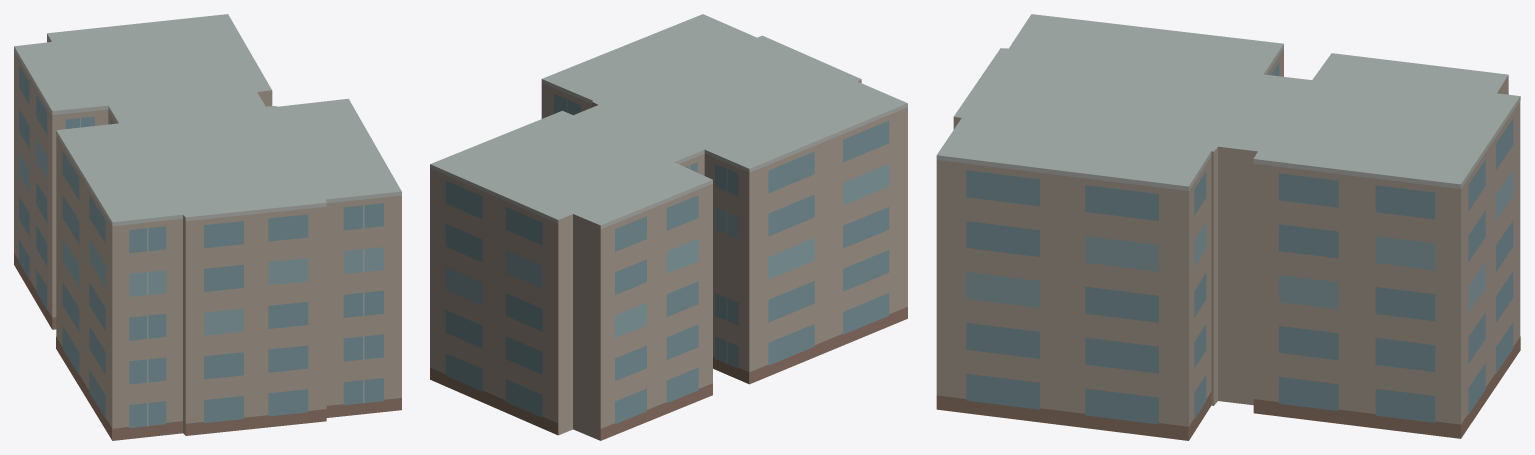
Rendered from survey-upis-32792833.glb.
3 views of the same model, side by side, from view 1: azimuth 30°, elevation 25°; view 2: azimuth 150°, elevation 25°; view 3: azimuth 270°, elevation 25° (orthographic). The views are drawn at different scales.
Visible parts, largest first — view 1: survey-upis-32792833.tmp; view 2: survey-upis-32792833.tmp; view 3: survey-upis-32792833.tmp.
Part boxes in pixels (x1,y1,x2,y2): survey-upis-32792833.tmp: (14, 14, 401, 440); survey-upis-32792833.tmp: (430, 14, 907, 440); survey-upis-32792833.tmp: (936, 14, 1520, 440).
Bounding box in the file's own units: 19.51 × 13.4 × 27.89.
